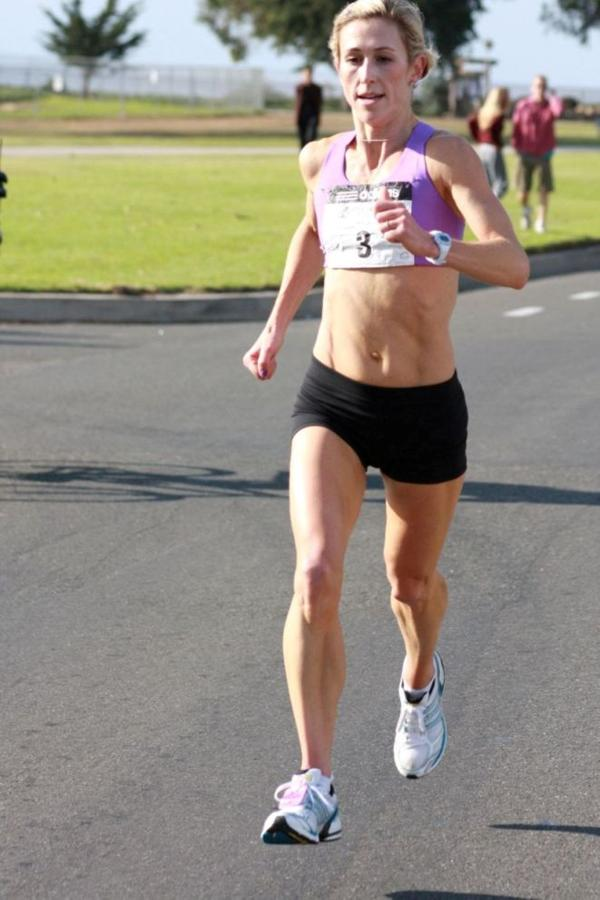person: (243, 5, 531, 841)
